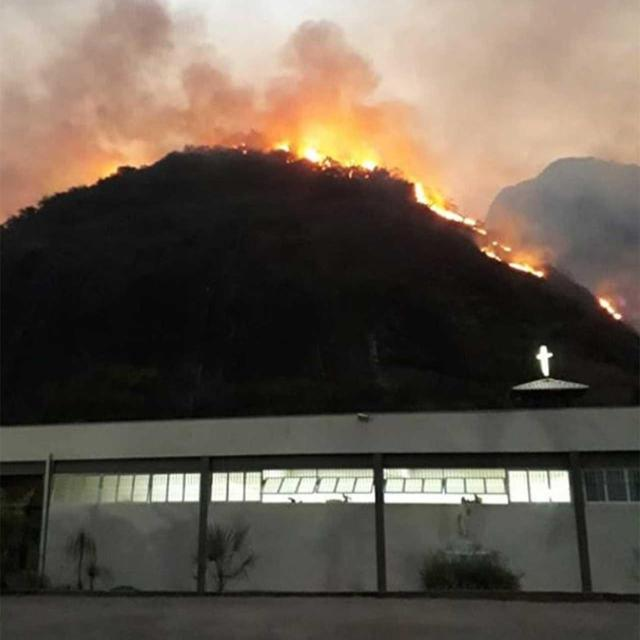Fire: (274, 126, 378, 170), (410, 181, 488, 235), (482, 242, 544, 276), (592, 294, 620, 317)
